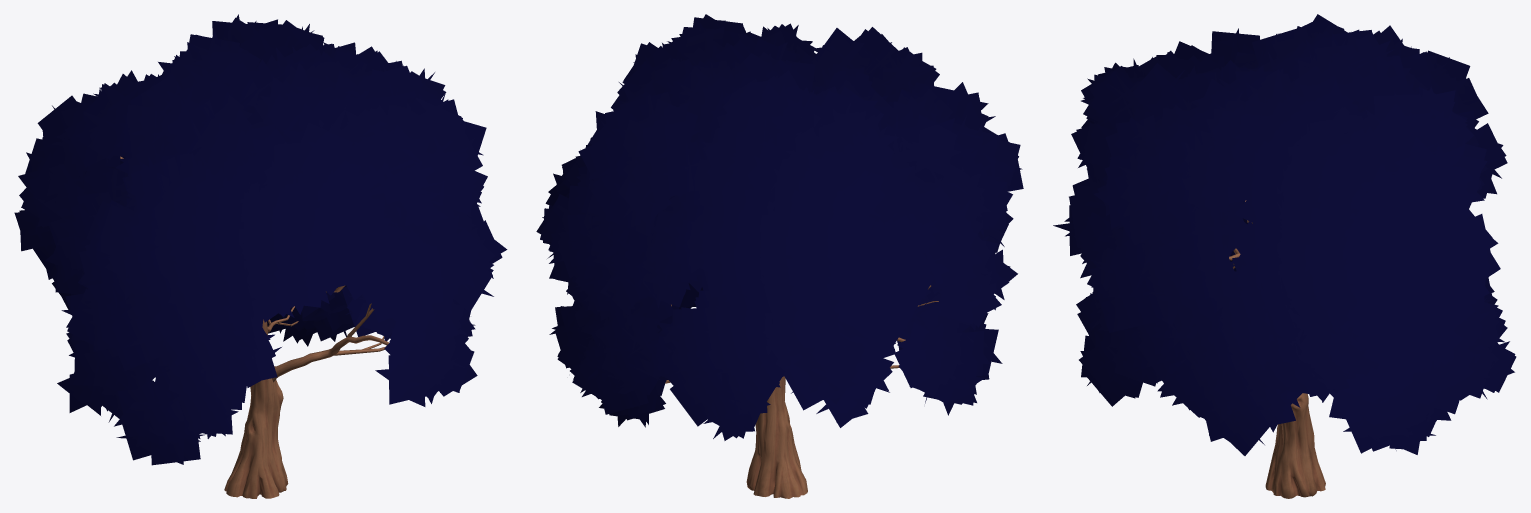
The model's file is SM_OakTree_01.fbx.
3 renders of one model, left to right at view 1: azimuth 30°, elevation 25°; view 2: azimuth 150°, elevation 25°; view 3: azimuth 270°, elevation 25°, orthographic. The views are drawn at different scales.
Visible parts, largest first — view 1: SM_OakTree_01_LOD0; view 2: SM_OakTree_01_LOD0; view 3: SM_OakTree_01_LOD0.
Boxes of the visible parts, x1,y1,x2,y2 form: SM_OakTree_01_LOD0: (14,14,507,498); SM_OakTree_01_LOD0: (536,14,1023,498); SM_OakTree_01_LOD0: (1053,14,1516,498).
Size of what is drawn, in the model's own units: 1367 by 1336 by 1259.
